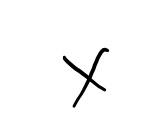mult: (63, 48, 109, 108)
